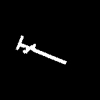double_crochet: (17, 36, 65, 63)
